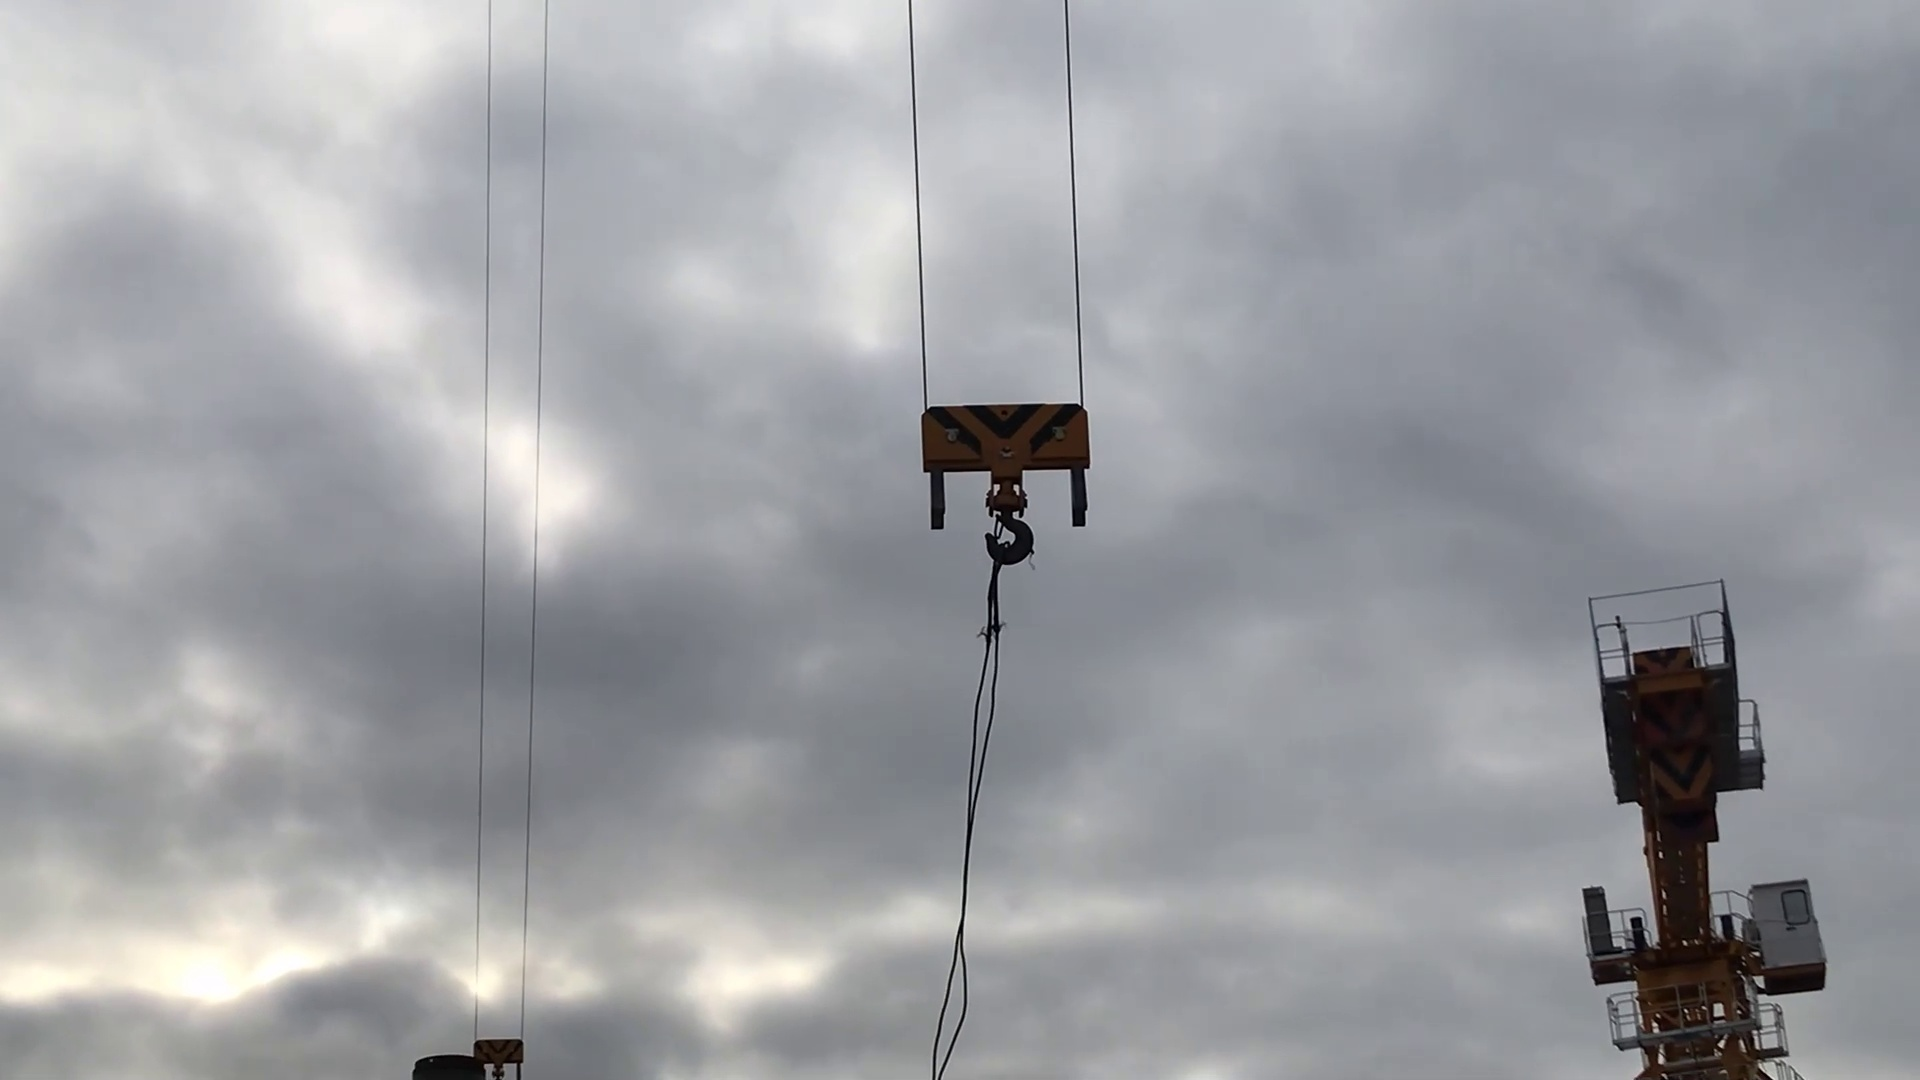hook: (910, 398, 1097, 563), (465, 1029, 530, 1079)
